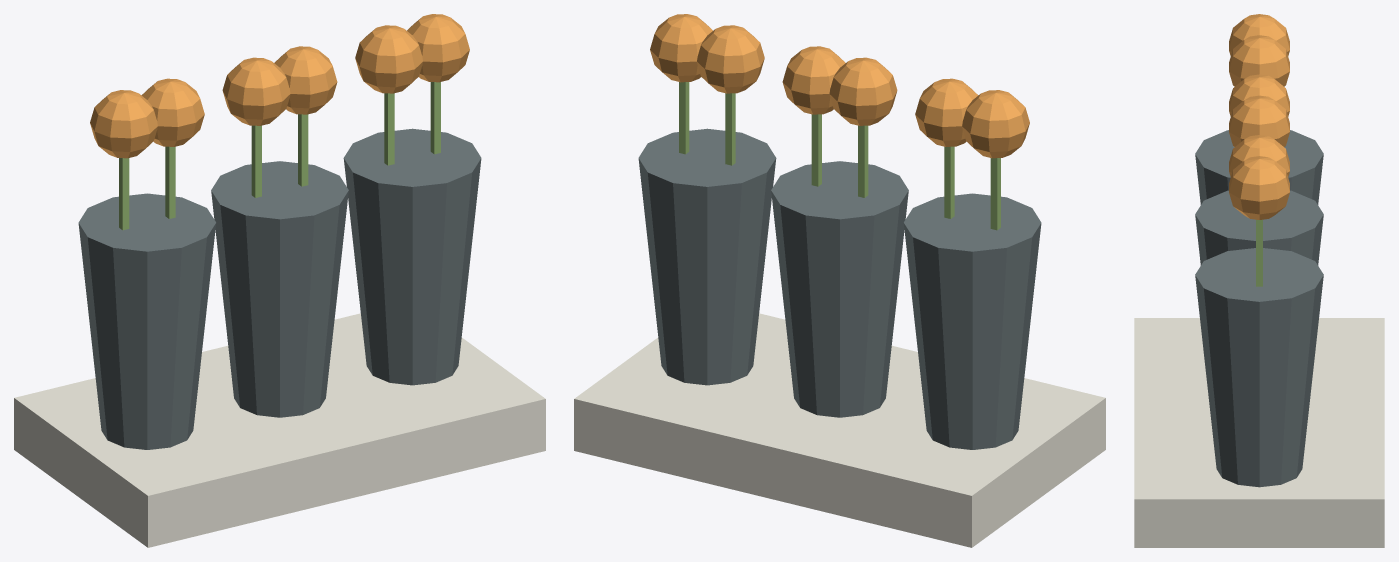
File: supermarket-operations-flower-bucket-stand-864b0c8a__26752.glb
3 renders of one model, left to right at view 1: azimuth 30°, elevation 25°; view 2: azimuth 150°, elevation 25°; view 3: azimuth 270°, elevation 25°, orthographic. The views are drawn at different scales.
Parts seen in each view (by area): view 1: flower-bucket-stand; view 2: flower-bucket-stand; view 3: flower-bucket-stand.
Boxes of the visible parts, x1,y1,x2,y2 form: flower-bucket-stand: (14,14,545,547); flower-bucket-stand: (574,14,1105,547); flower-bucket-stand: (1134,14,1384,547).
Bounding box in the file's own units: 1.2 × 1.14 × 0.7.
